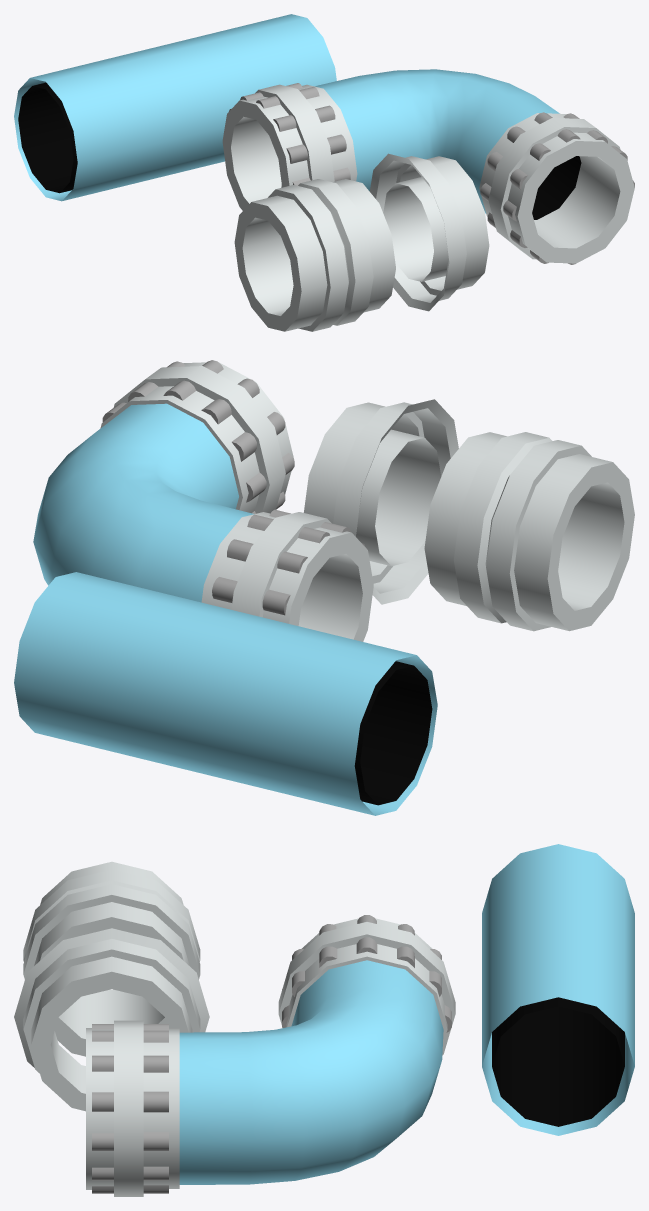
Rendered from WaterCoolPipes.fbx.
3 views of the same model, one above another, from view 1: azimuth 30°, elevation 25°; view 2: azimuth 150°, elevation 25°; view 3: azimuth 270°, elevation 25° (orthographic). The views are drawn at different scales.
Visible parts, largest first — view 1: WaterTube_Bend_GEO, WaterTube_Straight_GEO, WaterTube_Connector_GEO, WaterTube_Connector_Wall_GEO; view 2: WaterTube_Straight_GEO, WaterTube_Bend_GEO, WaterTube_Connector_GEO, WaterTube_Connector_Wall_GEO; view 3: WaterTube_Bend_GEO, WaterTube_Straight_GEO, WaterTube_Connector_Wall_GEO, WaterTube_Connector_GEO.
Boxes of the visible parts, <box> form: WaterTube_Bend_GEO: <box>222,69,634,264</box>; WaterTube_Straight_GEO: <box>14,14,336,201</box>; WaterTube_Connector_GEO: <box>234,179,395,331</box>; WaterTube_Connector_Wall_GEO: <box>369,153,489,311</box>; WaterTube_Straight_GEO: <box>14,572,437,815</box>; WaterTube_Bend_GEO: <box>33,360,373,641</box>; WaterTube_Connector_GEO: <box>424,432,634,631</box>; WaterTube_Connector_Wall_GEO: <box>303,399,458,604</box>; WaterTube_Bend_GEO: <box>86,915,455,1196</box>; WaterTube_Straight_GEO: <box>482,844,634,1135</box>; WaterTube_Connector_Wall_GEO: <box>14,928,209,1111</box>; WaterTube_Connector_GEO: <box>23,861,200,1056</box>.
Size of the model in its own units: 561 by 200 by 633.
